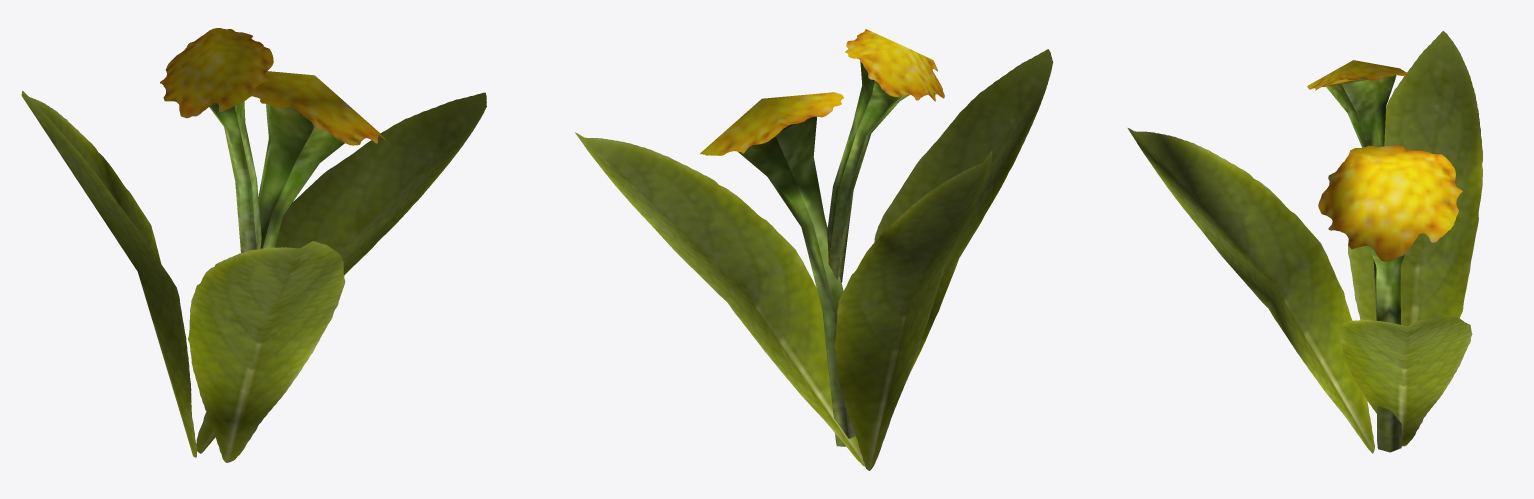
File: yellowf4.obj
3 renders of one model, left to right at view 1: azimuth 30°, elevation 25°; view 2: azimuth 150°, elevation 25°; view 3: azimuth 270°, elevation 25°, orthographic. The views are drawn at different scales.
Visible parts, largest first — view 1: yellowflower04; view 2: yellowflower04; view 3: yellowflower04.
Boxes of the visible parts, box(x1,y1,x2,y2) form: yellowflower04: box(21, 28, 486, 462); yellowflower04: box(575, 29, 1053, 470); yellowflower04: box(1127, 31, 1482, 453).
Bounding box in the file's own units: 19.28 × 17.5 × 16.34.
2 materials, 2 textured.
